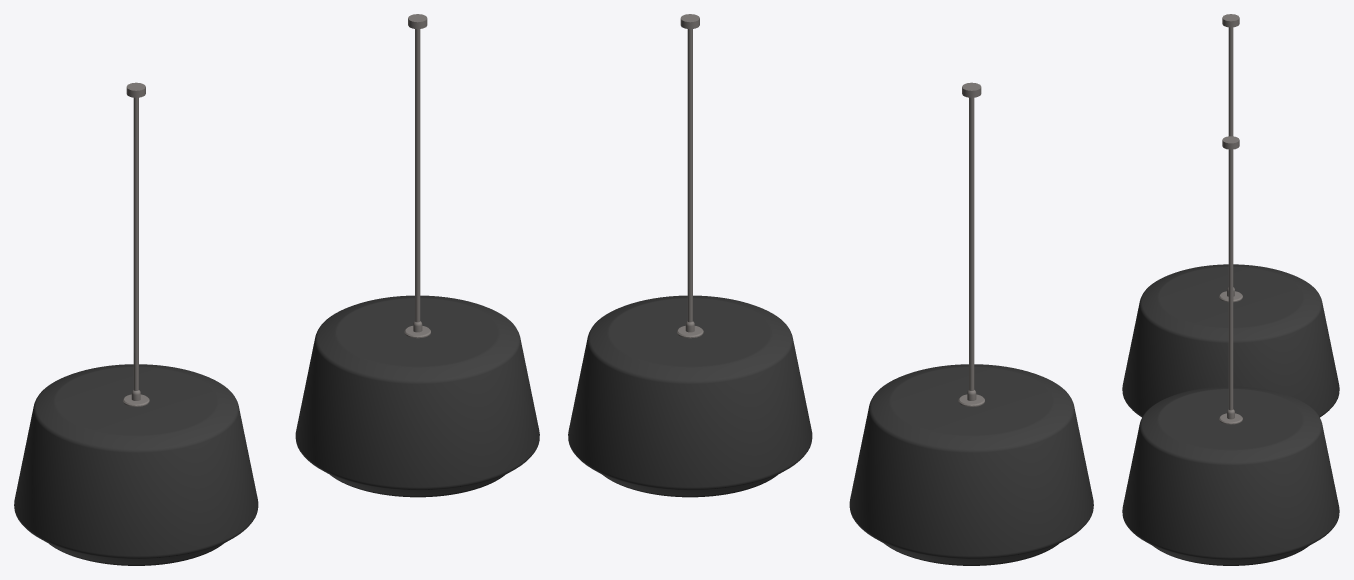
Rendered from A23DMOD_FBX.fbx.
3 views of the same model, side by side, from view 1: azimuth 30°, elevation 25°; view 2: azimuth 150°, elevation 25°; view 3: azimuth 270°, elevation 25° (orthographic). The views are drawn at different scales.
Visible parts, largest first — view 1: A23DOBJ_001, A23DOBJ_002; view 2: A23DOBJ_001, A23DOBJ_002; view 3: A23DOBJ_001, A23DOBJ_002.
Part boxes in pixels (left/top/right/bottom): A23DOBJ_001: left=295, top=14, right=539, bottom=497; A23DOBJ_002: left=14, top=82, right=258, bottom=565; A23DOBJ_001: left=568, top=14, right=812, bottom=497; A23DOBJ_002: left=849, top=82, right=1093, bottom=565; A23DOBJ_001: left=1122, top=136, right=1339, bottom=565; A23DOBJ_002: left=1122, top=14, right=1339, bottom=417.
Size of the model in its own units: 88.2 by 74.75 by 37.86.
Materials: 4 (4 with a texture image).
